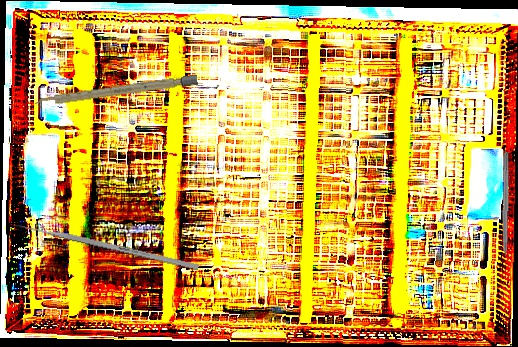Hook Surgical: (500, 151, 510, 270)
Pusher: (10, 220, 200, 271)
Scalpel Handle: (34, 74, 198, 108)
